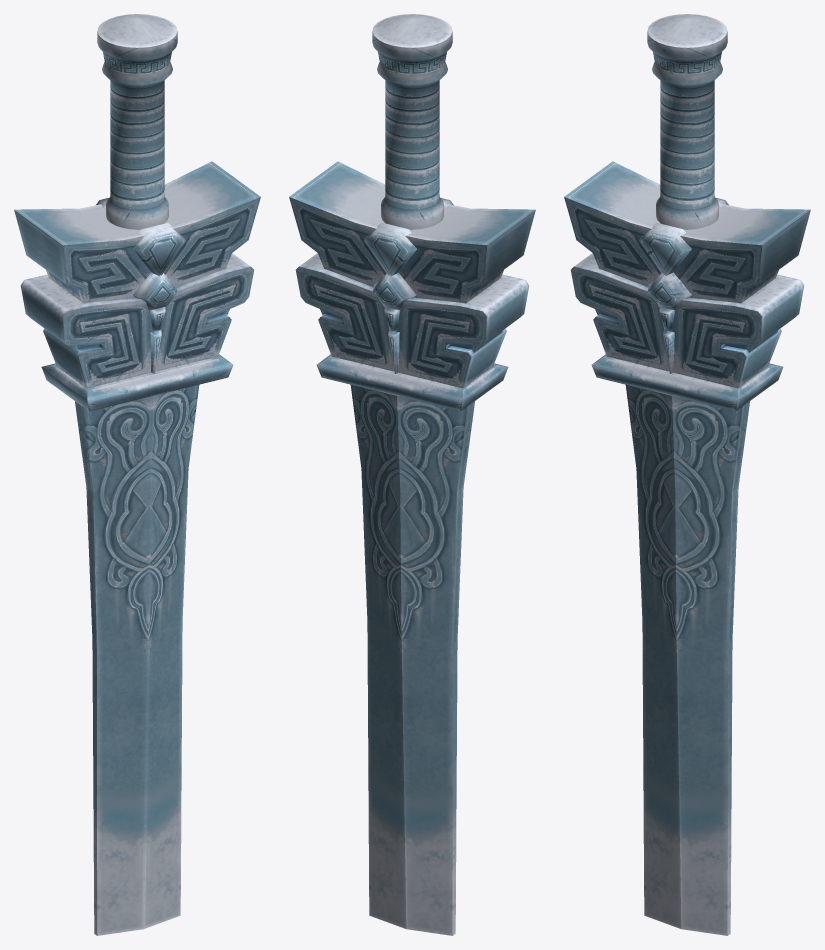
The model's file is Scene_Build_TianShan_JuJian_1.FBX.
The picture shows the model from 3 angles, left to right: view 1: azimuth 30°, elevation 25°; view 2: azimuth 150°, elevation 25°; view 3: azimuth 330°, elevation 25°; orthographic projection.
Parts seen in each view (by area): view 1: Scene_Build_TianShan_JuJian_1; view 2: Scene_Build_TianShan_JuJian_1; view 3: Scene_Build_TianShan_JuJian_1.
Part boxes in pixels (bbox=[...]): Scene_Build_TianShan_JuJian_1: bbox=[14, 14, 260, 935]; Scene_Build_TianShan_JuJian_1: bbox=[289, 14, 535, 935]; Scene_Build_TianShan_JuJian_1: bbox=[564, 14, 810, 935].
Bounding box in the file's own units: 1323 × 5774 × 611.
